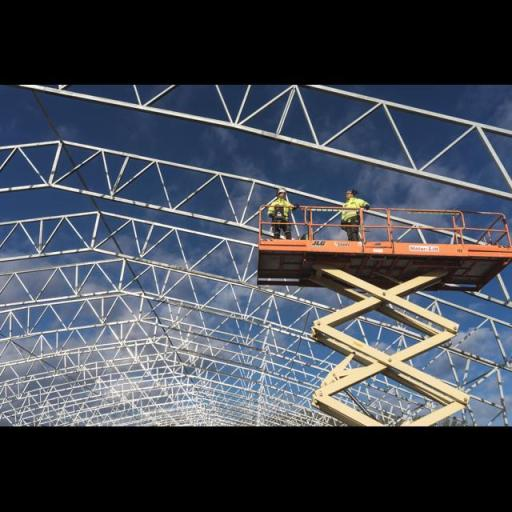Person: (331, 181, 374, 248), (264, 184, 302, 250)
helmet: (274, 183, 288, 195)
vest: (336, 194, 372, 231), (266, 194, 292, 220)
